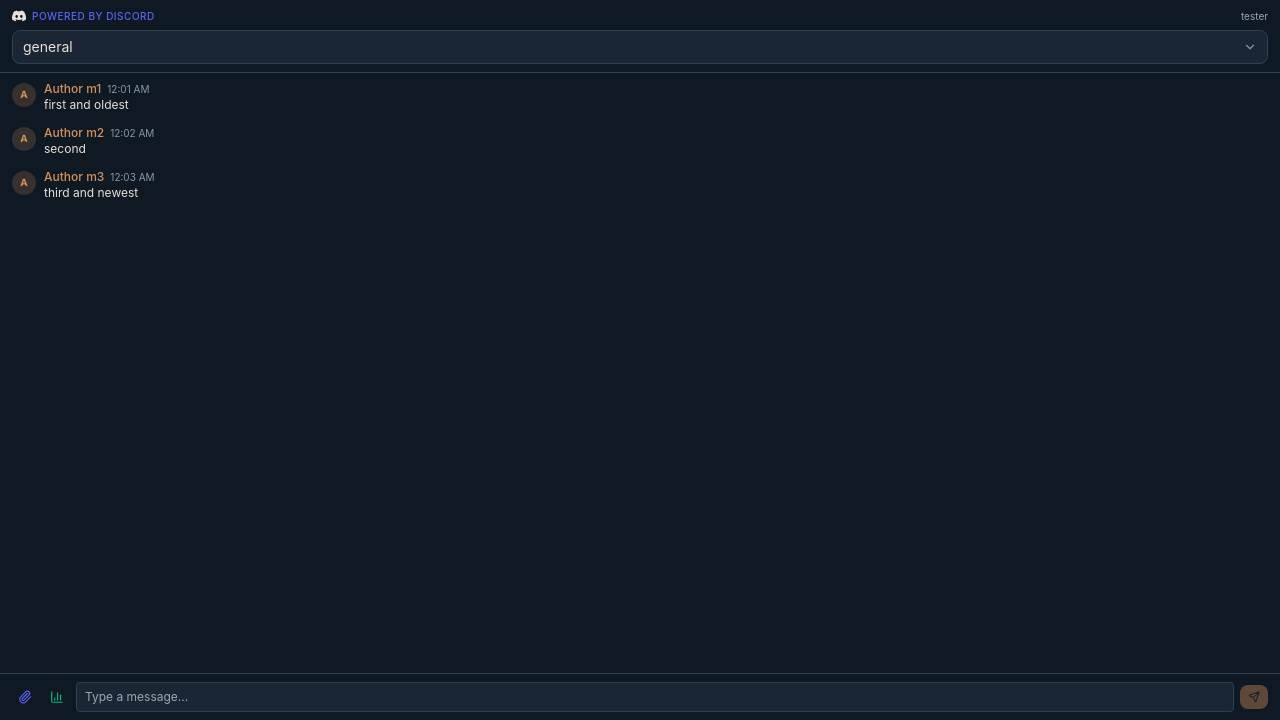
CommunitySidebar shows a sent message once, in its own channel (R594) › a failed read of another channel says so and shows none of the earlier channel
Expected: the text "third and newest" is shown, [44,185,138,200]
Click the button "general" at [48, 46], box [12,30,1268,64]
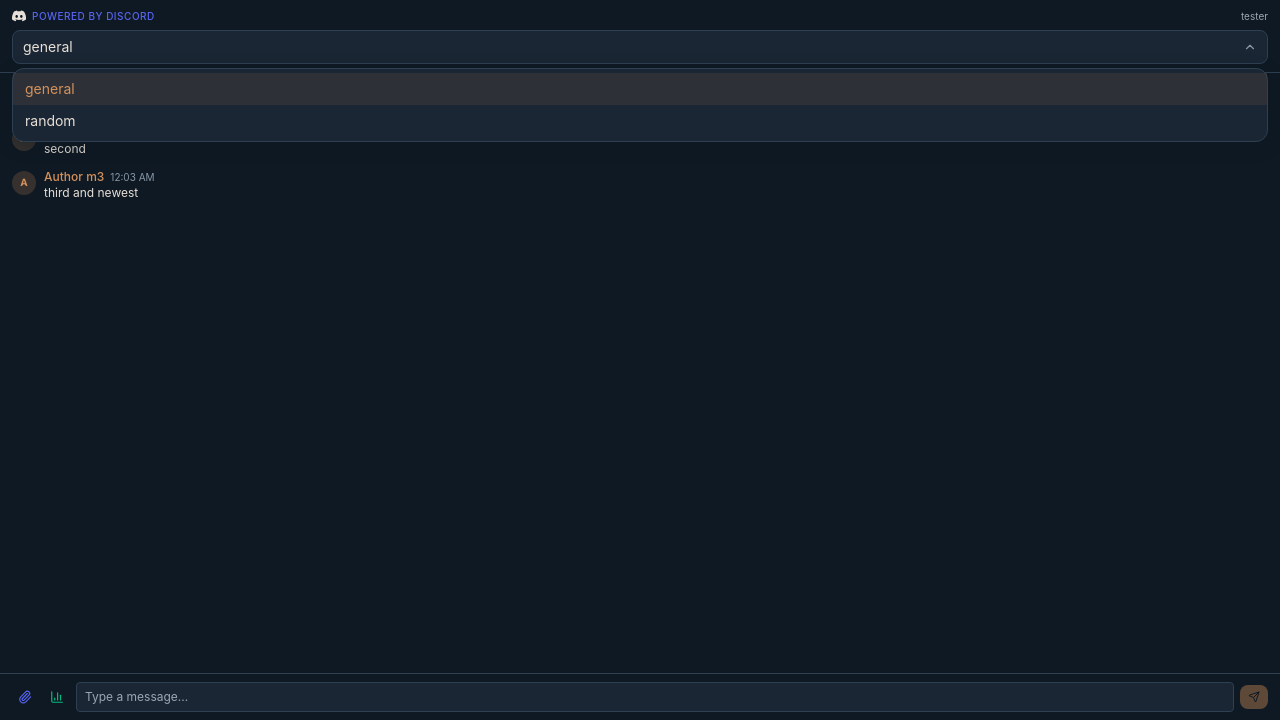
Click the button "random" at [50, 120], box [13,105,1267,137]
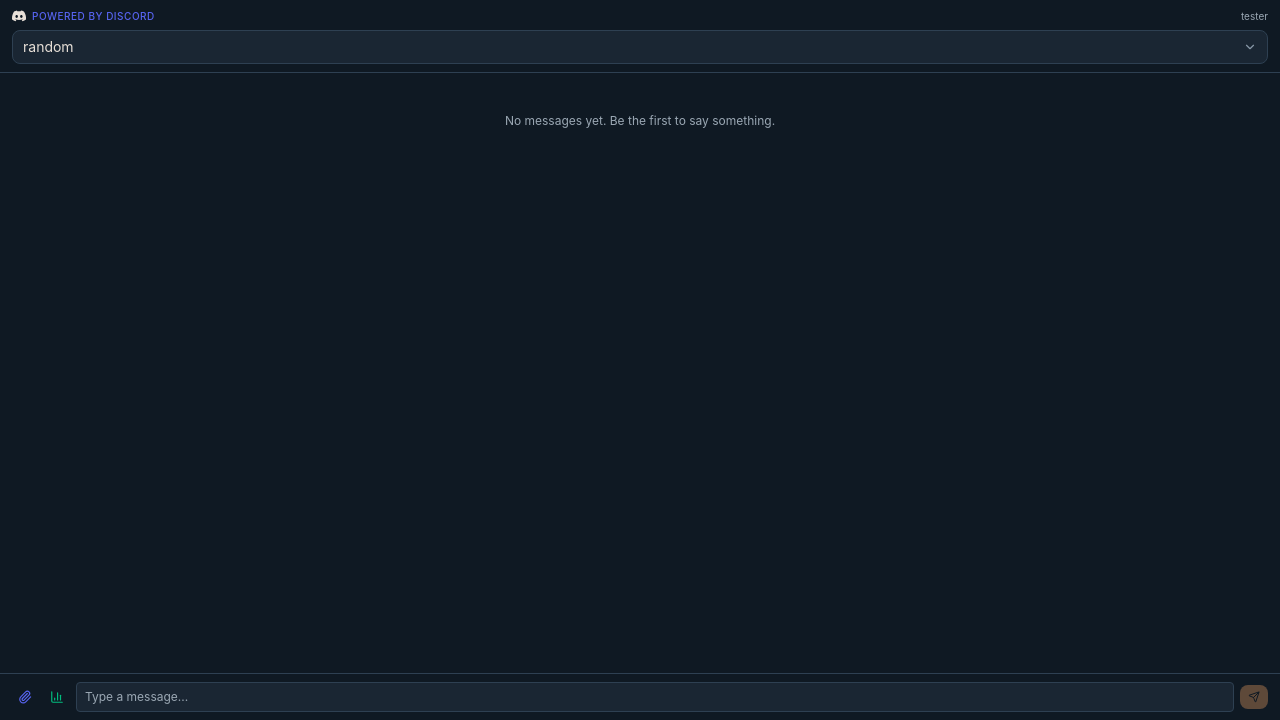
Expected: the text "third and newest" is gone
